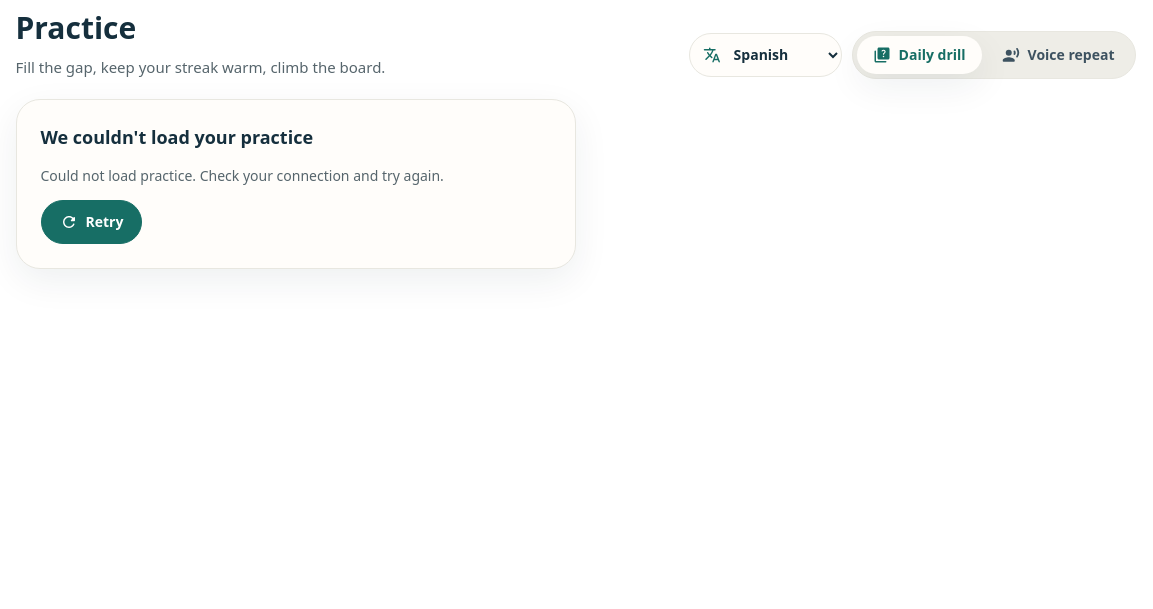
Scenario: PracticePage › first-load failure shows a friendly error with Retry
Expected: the heading "We couldn't load your practice" is shown, [40,124,313,148]
Click the button "Retry" at [91, 222], box [40,200,142,244]
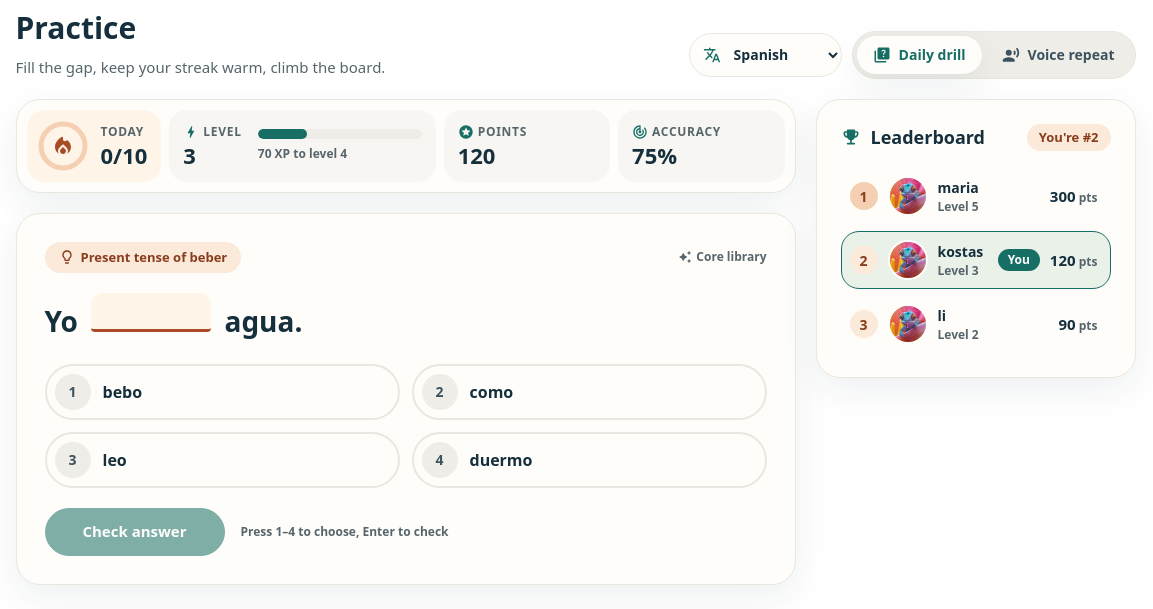
Expected: the text "Present tense of beber" is shown, [44,242,241,273]
